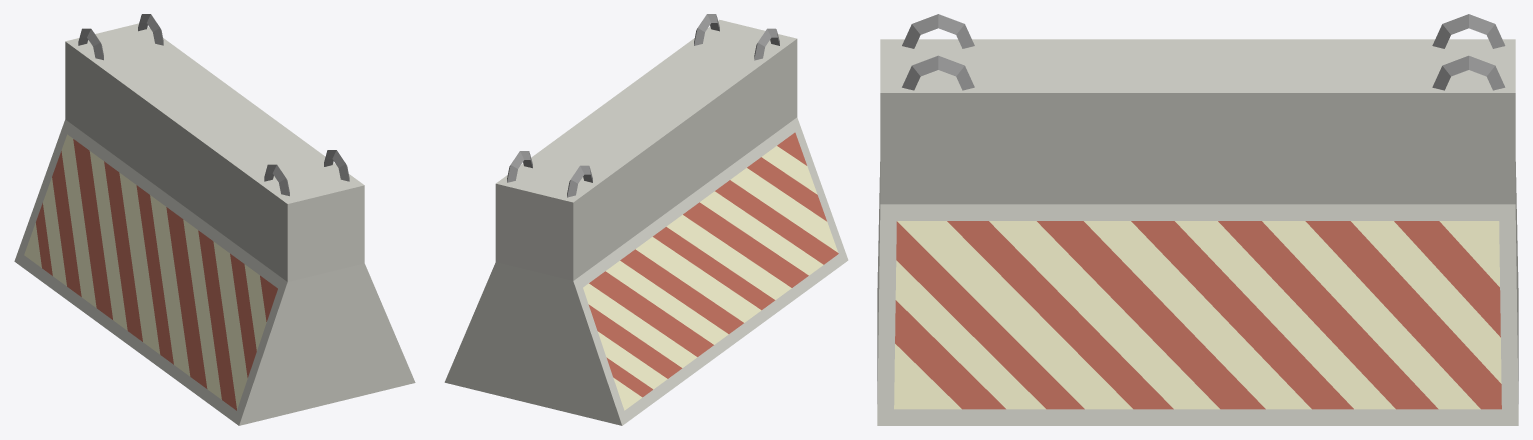
File: barricade.fbx
3 views of the same model, side by side, from view 1: azimuth 30°, elevation 25°; view 2: azimuth 150°, elevation 25°; view 3: azimuth 270°, elevation 25° (orthographic). The views are drawn at different scales.
Parts seen in each view (by area): view 1: Cube_7; view 2: Cube_7; view 3: Cube_7.
Part boxes in pixels (x1,y1,x2,y2): Cube_7: (14,14,415,425); Cube_7: (444,14,848,425); Cube_7: (877,14,1518,425).
Size of the model in its own units: 90.77 by 114 by 200.
